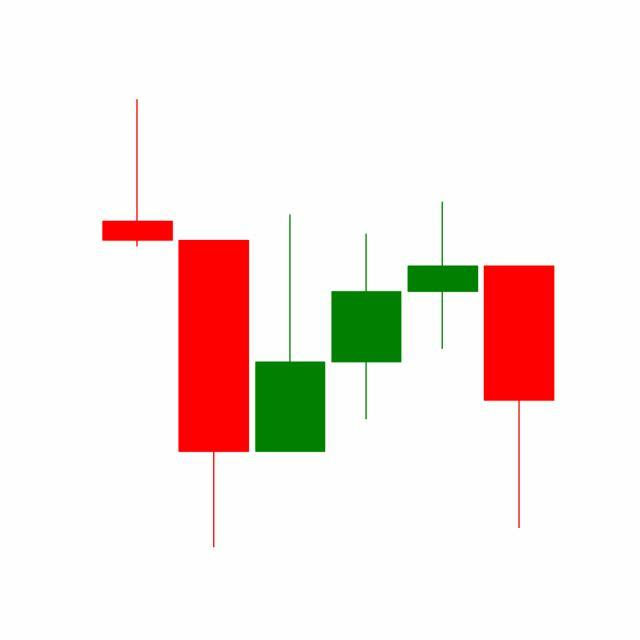Spinning Top: (404, 201, 482, 352)
